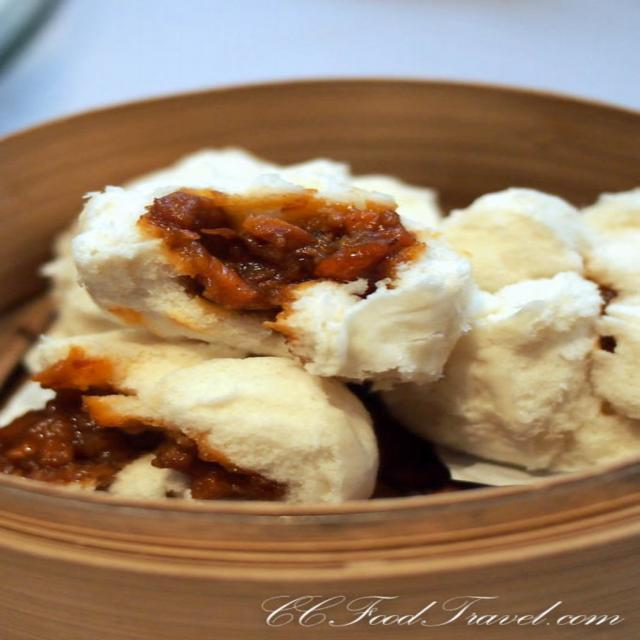Ice cream: (20, 108, 586, 508), (370, 190, 640, 464)
